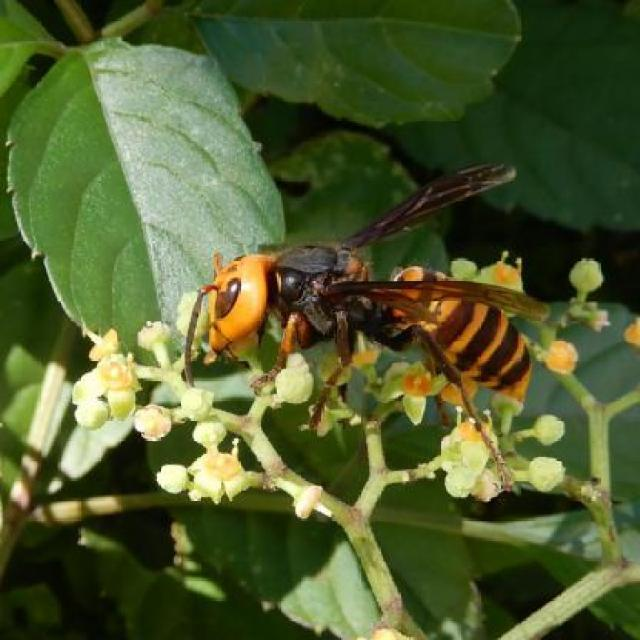Wasp: (189, 142, 554, 492)
